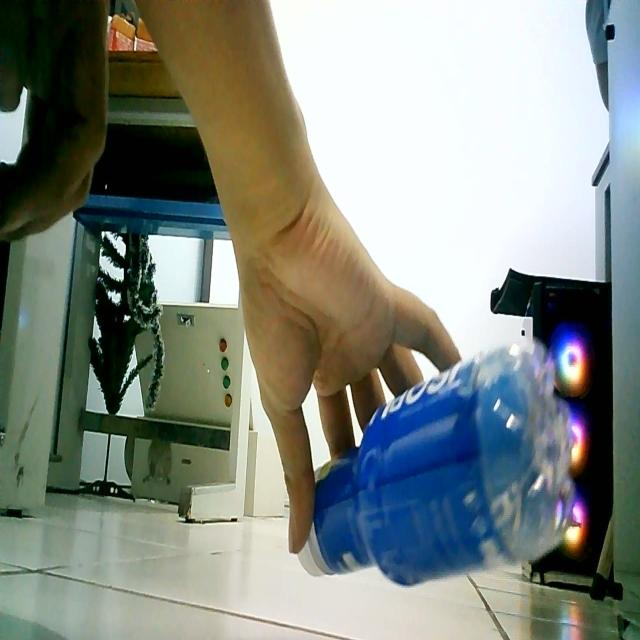botol: (242, 307, 589, 602)
